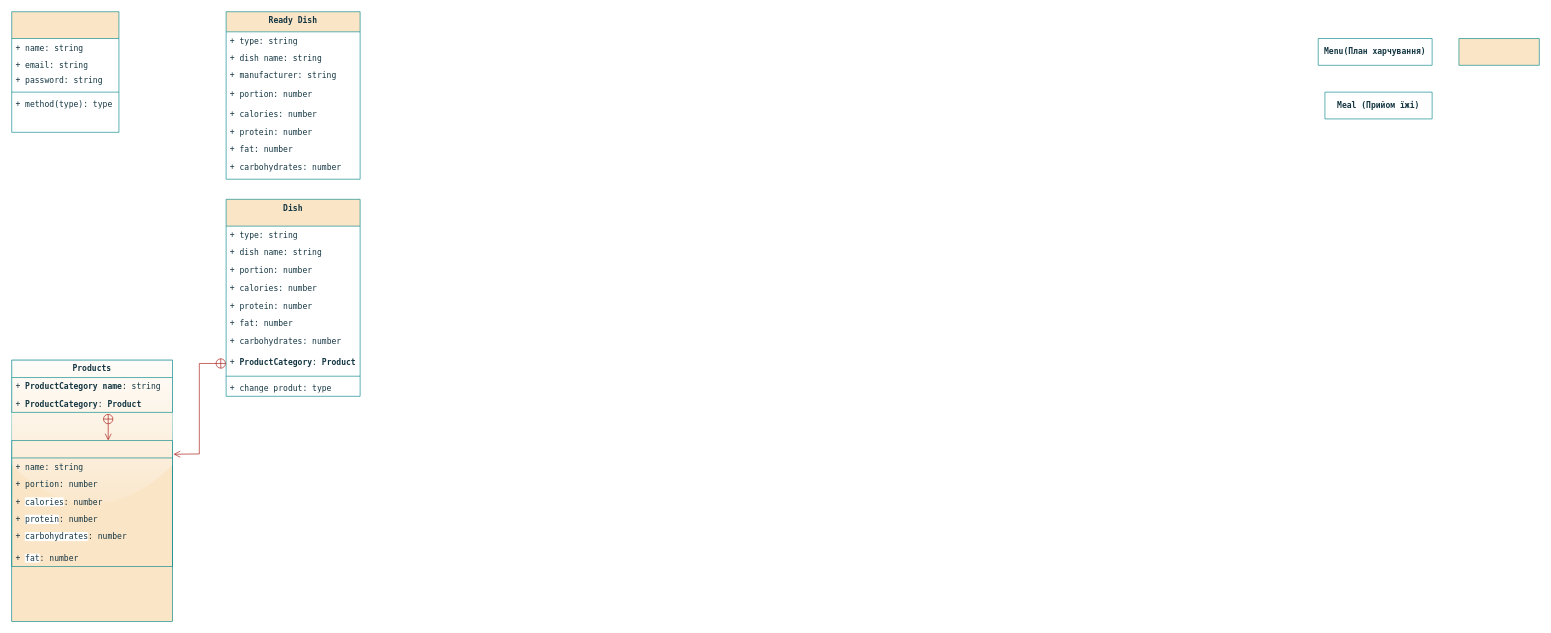
This 1551x633 diagram has some shape labels left out. The shapes that lost their labels are listed below. From the top down, each one's box as (x1, y1, x2, y2) in pixels, then its label:
(11, 11, 119, 132): User
(1458, 38, 1539, 65): ShoppingList
(11, 440, 173, 566): Product
